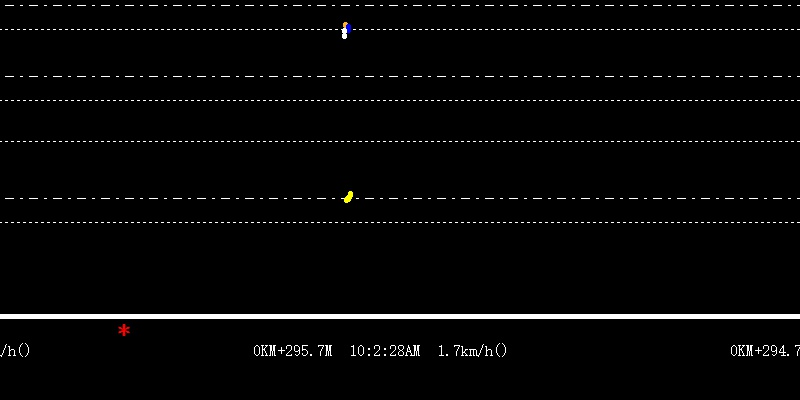face_s: (340, 19, 351, 41)
star: (116, 322, 131, 335)
